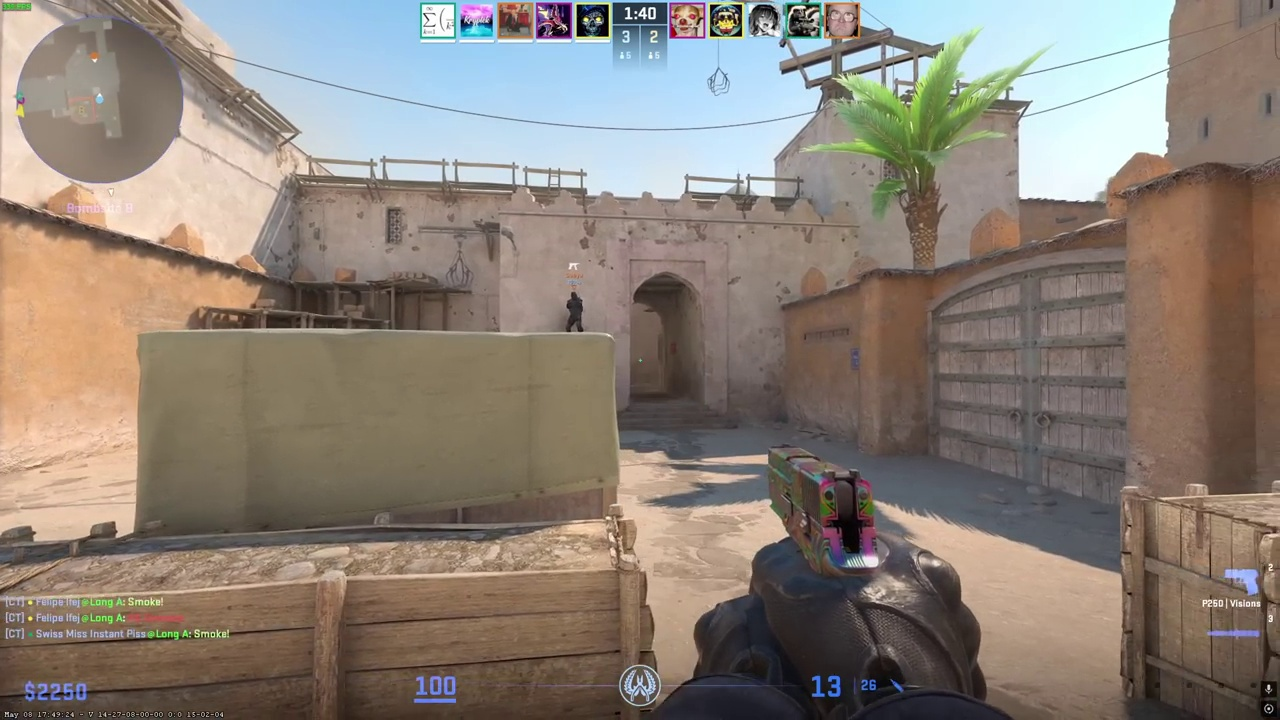CT: (565, 292, 584, 332)
